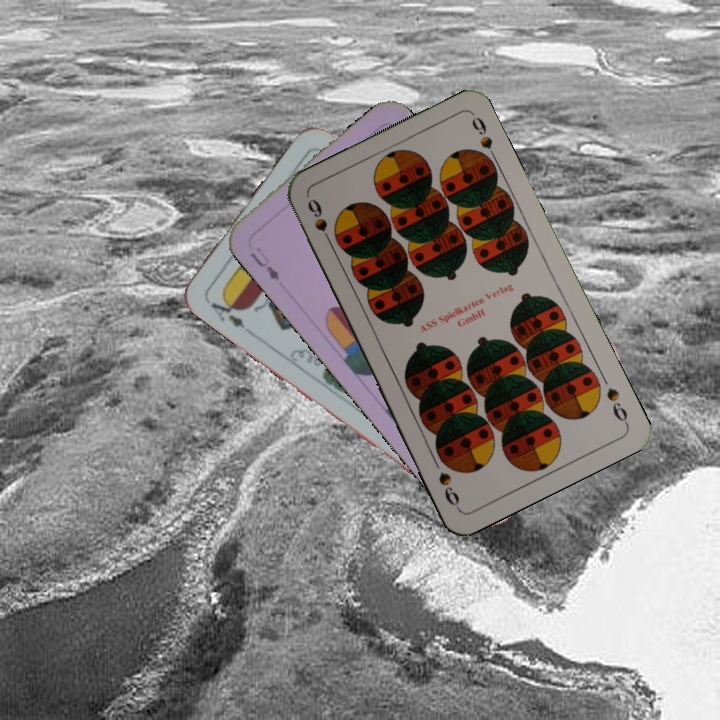EA: (203, 292, 247, 331)
EU: (246, 242, 283, 284)
S9: (303, 194, 336, 250), (602, 383, 631, 428)
